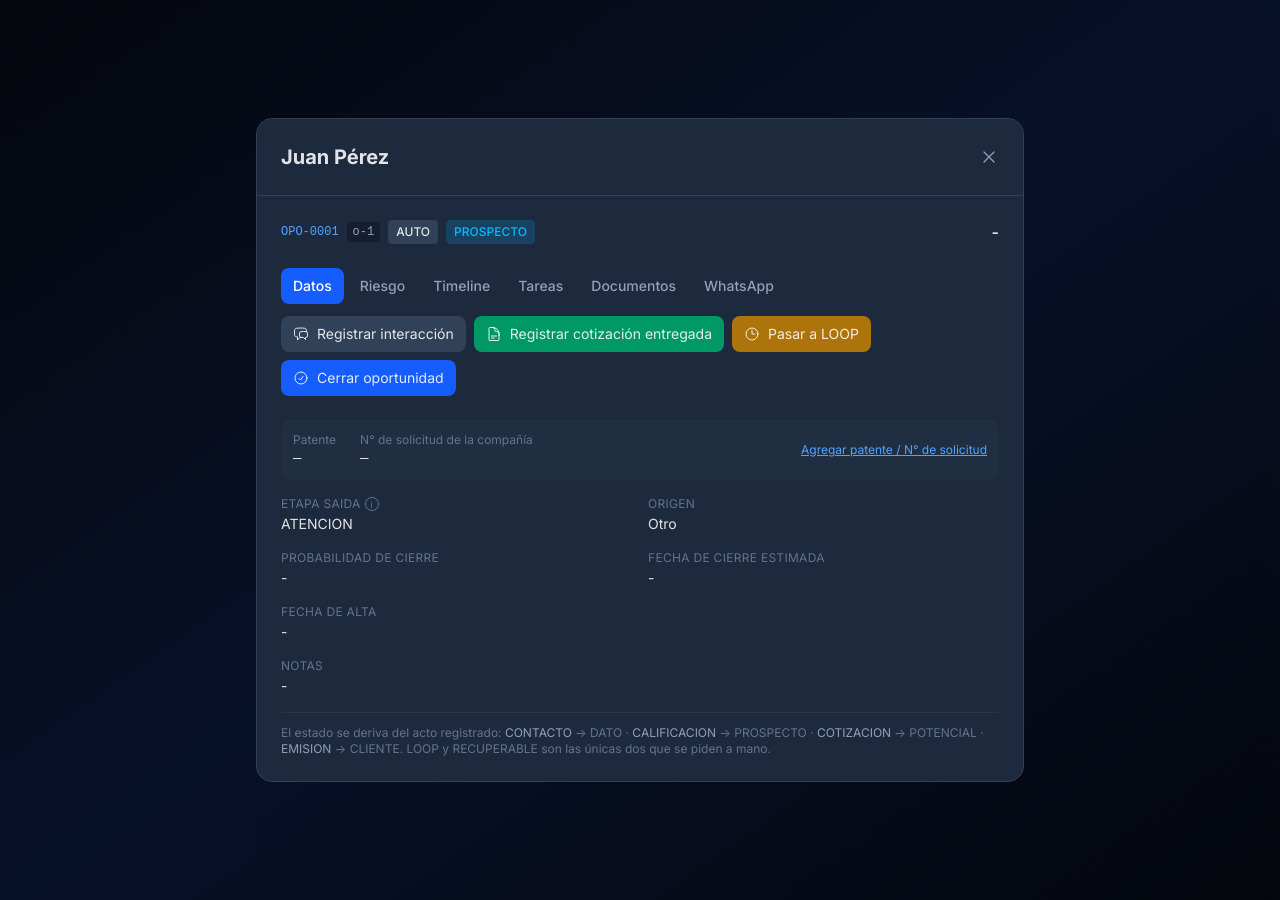
Test case: Ficha · completar una tarea › una tarea de próxima acción abre el modal de próxima acción, sin PATCH ni confirmación
Expected: the text "OPO-0001" is shown, [281,224,339,240]
Click the button "Tareas" at (541, 286), box [506,268,575,304]
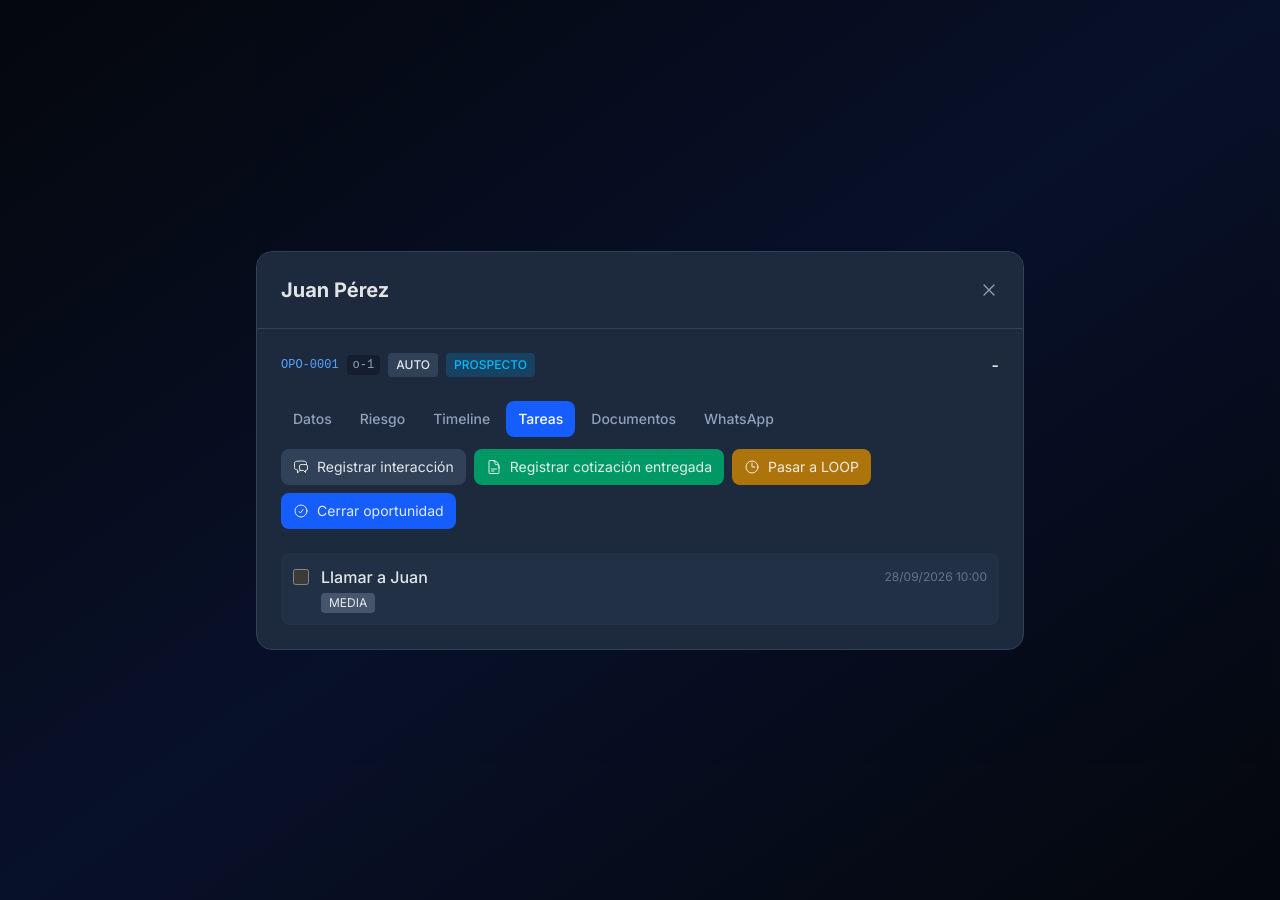
Click the checkbox named "Completar Llamar a Juan" at (301, 576), box [293,568,309,584]
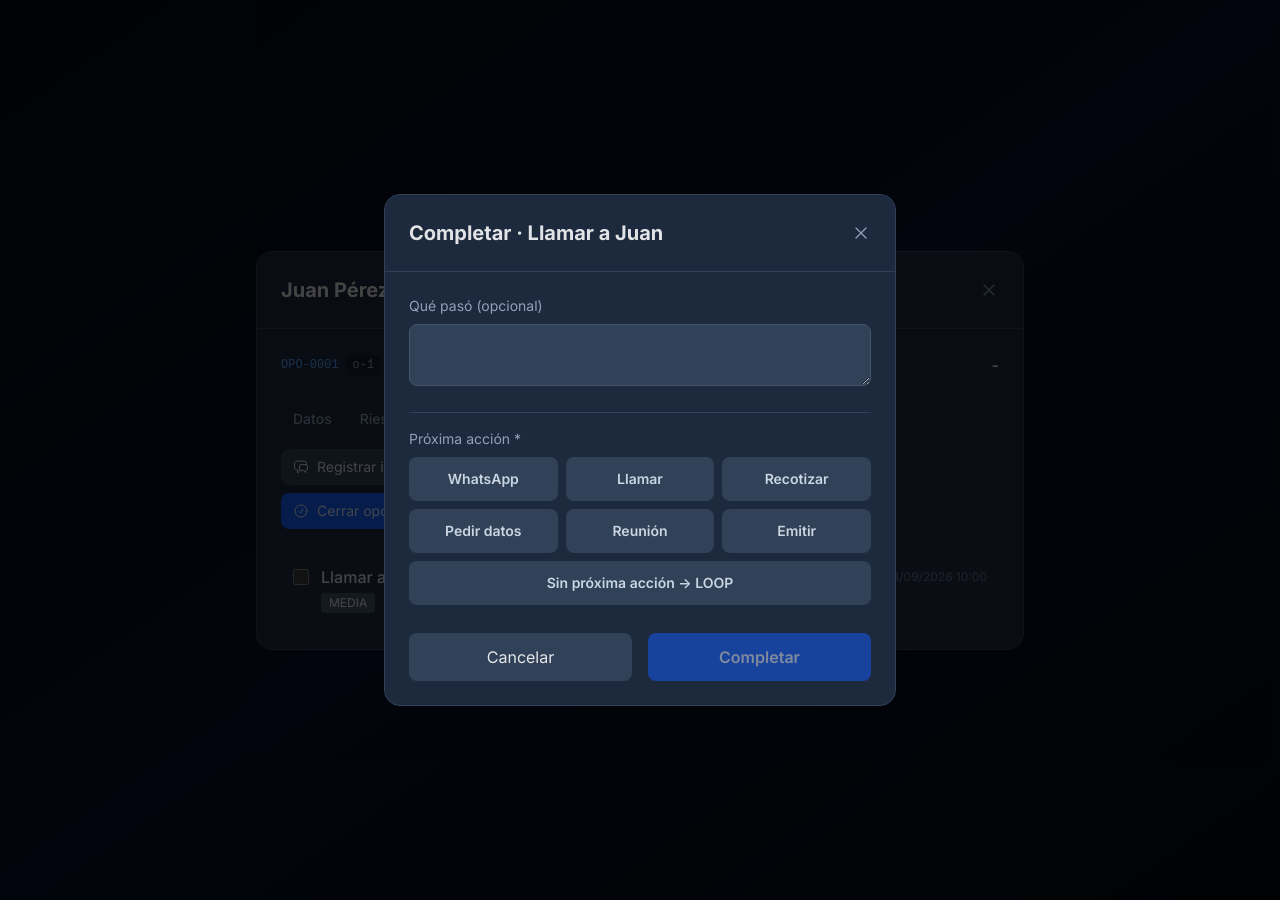
Now the element "próxima acción" is shown, box [409,457,871,605]
Now the heading "Completar · Llamar a Juan" is shown, box [409,219,663,247]
